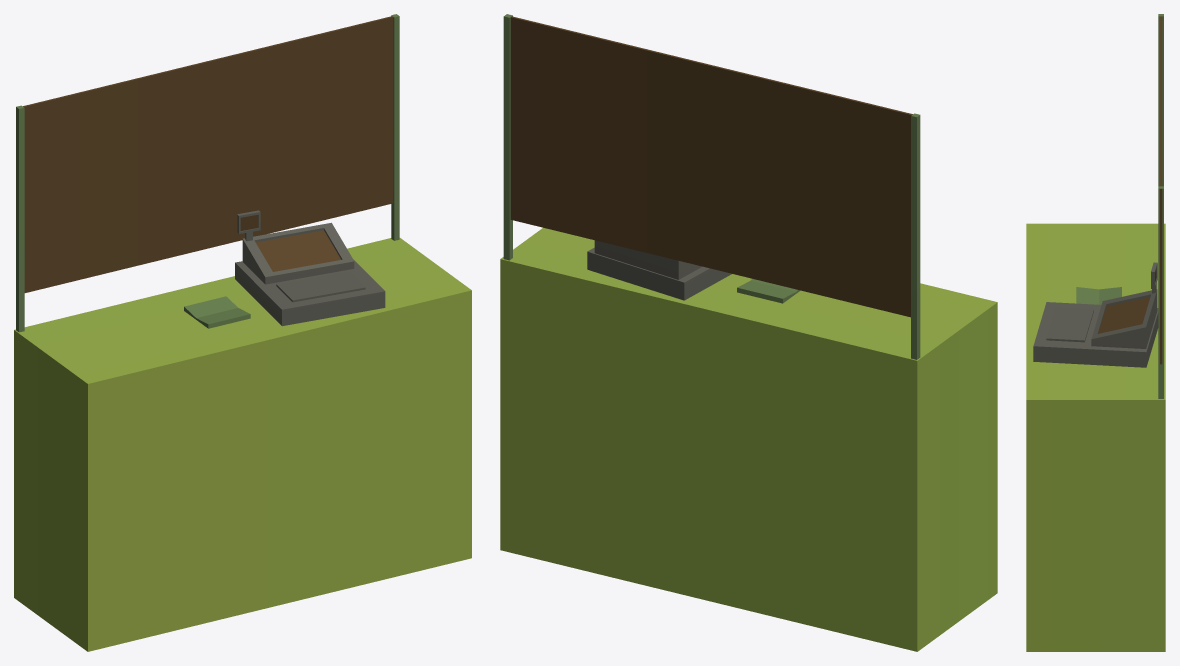
File: SuperMarketPart_05.fbx
3 views of the same model, side by side, from view 1: azimuth 30°, elevation 25°; view 2: azimuth 150°, elevation 25°; view 3: azimuth 270°, elevation 25° (orthographic). The views are drawn at different scales.
Parts seen in each view (by area): view 1: SuperMarketPart_05; view 2: SuperMarketPart_05; view 3: SuperMarketPart_05.
Boxes of the visible parts, box(x1,y1,x2,y2) form: SuperMarketPart_05: box(14, 14, 471, 651); SuperMarketPart_05: box(500, 14, 997, 651); SuperMarketPart_05: box(1026, 14, 1165, 651).
Size of the model in its own units: 1.5 by 1.83 by 0.5.
